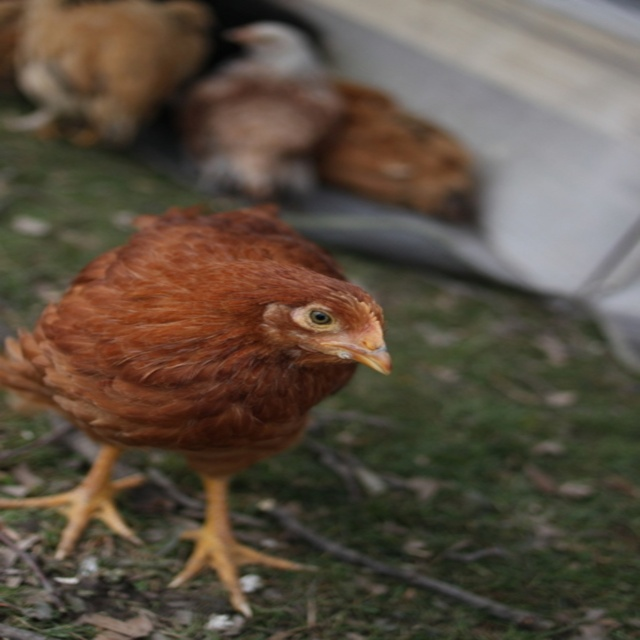Chicken: (13, 198, 399, 620)
